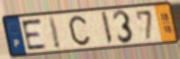3: (113, 8, 135, 45)
7: (134, 9, 154, 41)
C: (67, 14, 91, 47)
E: (20, 18, 49, 52)
I: (47, 15, 63, 51), (100, 10, 114, 46)
